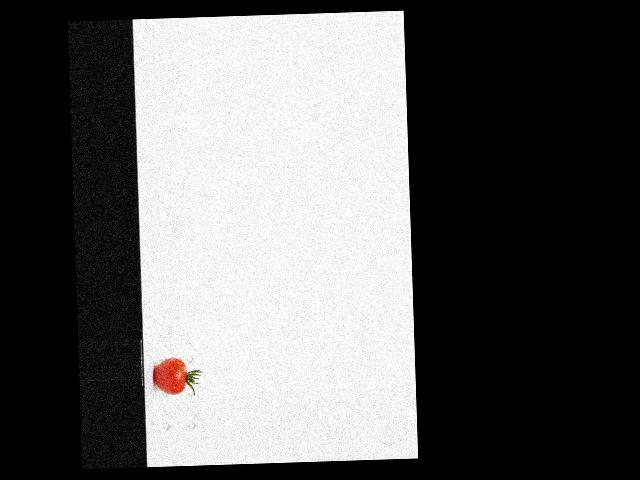tomato: (153, 358, 186, 395)
